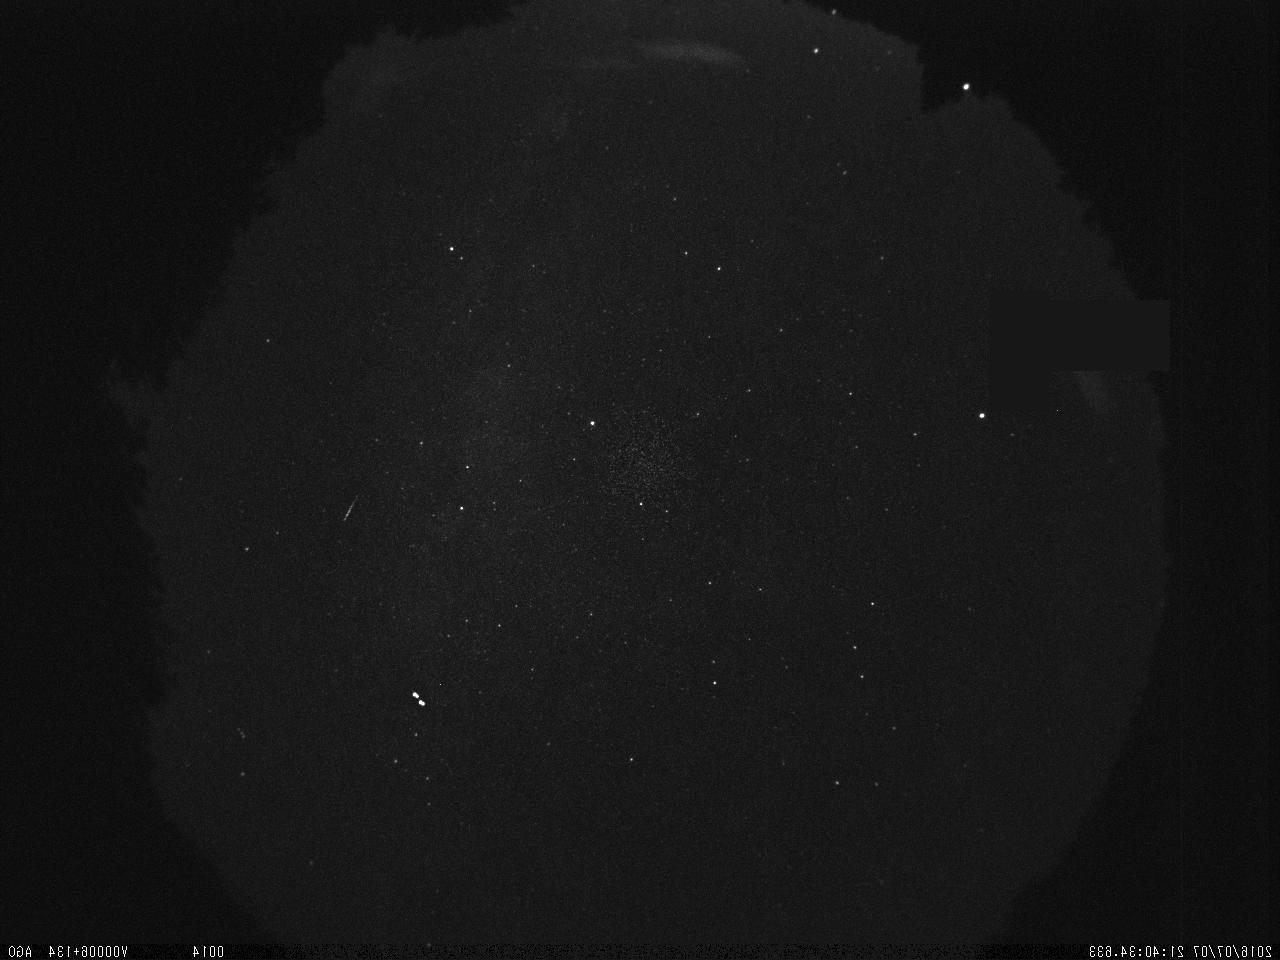meteor: (322, 482, 380, 536)
